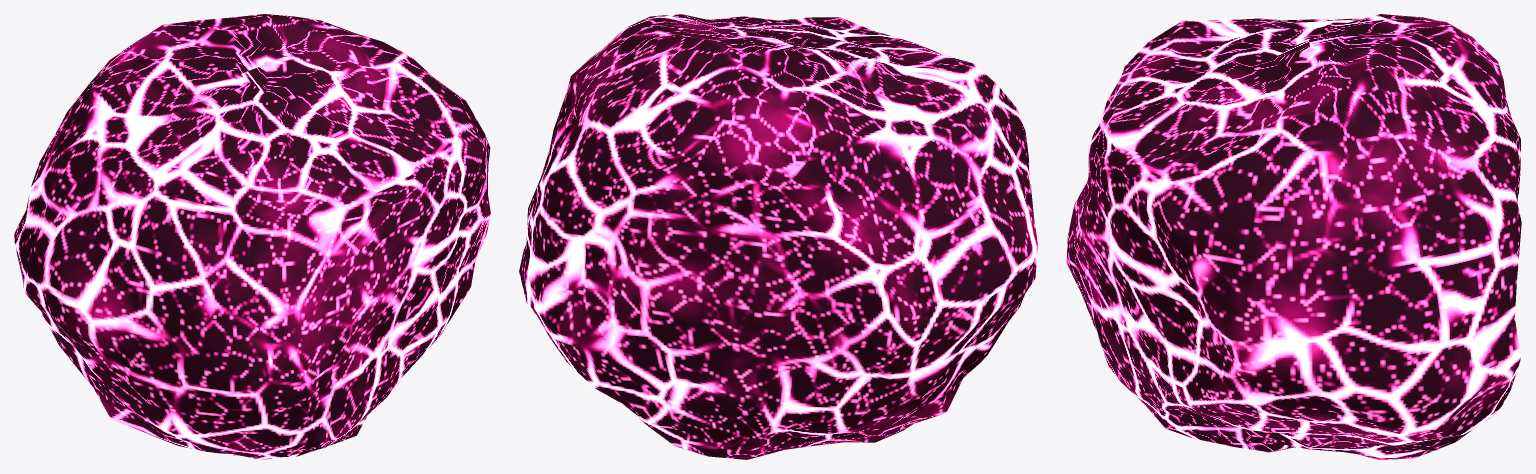
Rendered from rock_hot_rose.glb.
3 views of the same model, side by side, from view 1: azimuth 30°, elevation 25°; view 2: azimuth 150°, elevation 25°; view 3: azimuth 270°, elevation 25° (orthographic). The views are drawn at different scales.
Parts seen in each view (by area): view 1: rock; view 2: rock; view 3: rock.
Boxes of the visible parts, left/top/right/bottom form: rock: left=14, top=14, right=490, bottom=459; rock: left=519, top=14, right=1037, bottom=459; rock: left=1066, top=14, right=1521, bottom=459.
Bounding box in the file's own units: 2.04 × 1.74 × 1.71.
1 material, 1 textured.
